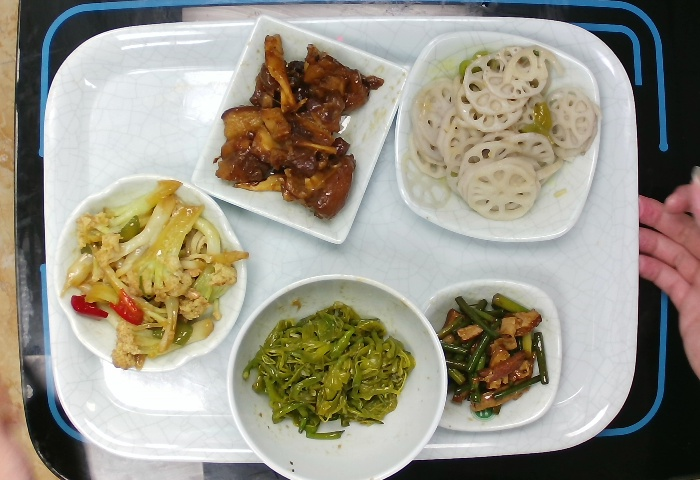JYsf-Ao_Yuan_Wan: (58, 174, 245, 371)
JYsf-Fan_Wan: (225, 271, 447, 480)
JYsf-Si_Fang_Die: (421, 279, 564, 434)
WCQzf-Da_Si_Fang_Die: (396, 27, 601, 248)
WCQzf-Ru_Ci_Si_Fang_Die: (188, 16, 400, 249)
